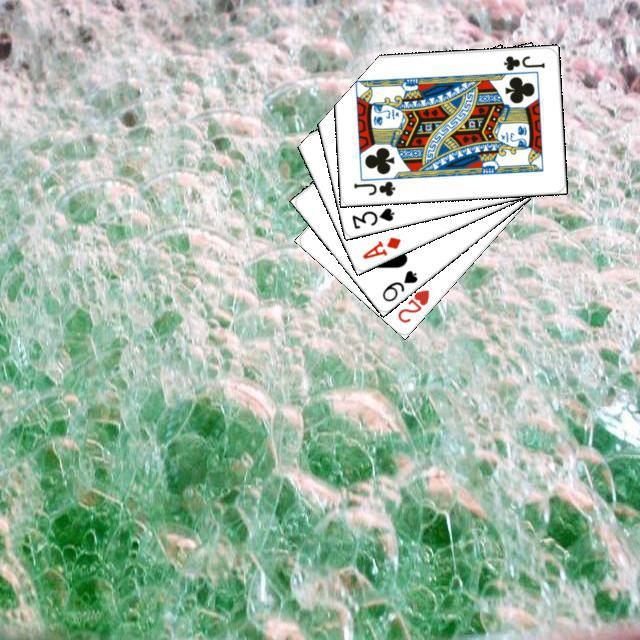2h: (392, 285, 431, 325)
3s: (347, 203, 396, 231)
9s: (377, 265, 419, 303)
Ad: (357, 232, 403, 261)
Jc: (349, 176, 397, 198), (499, 51, 546, 72)
